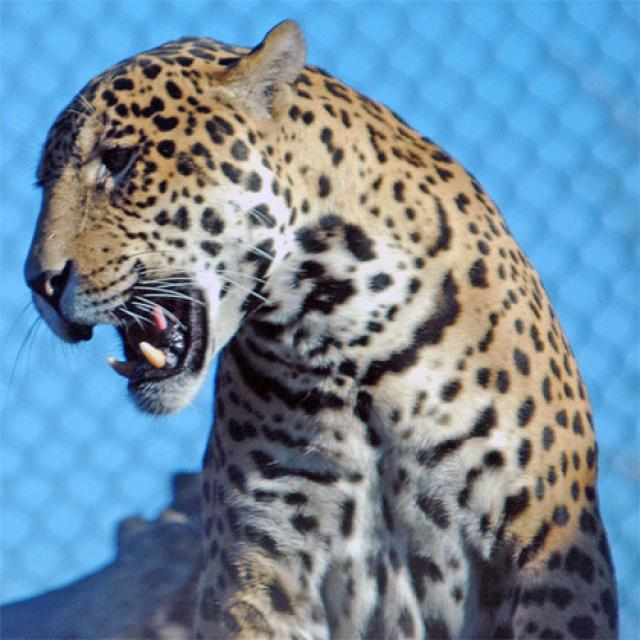Leopard: (19, 17, 621, 636)
